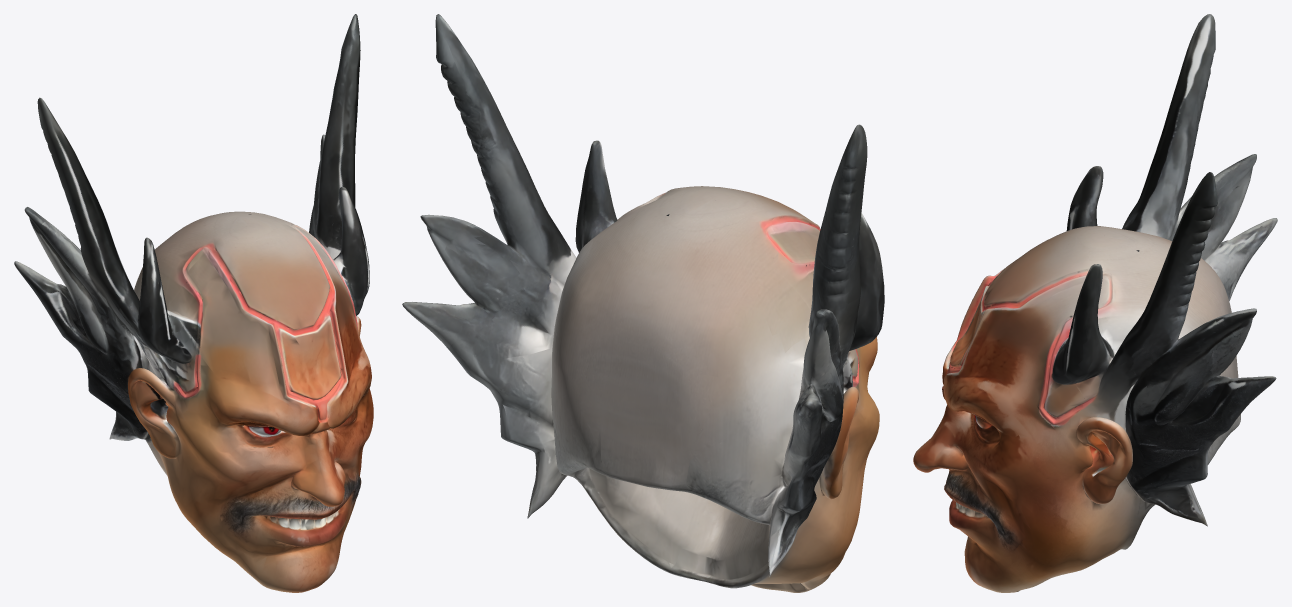
Rendered from jackhachi-head.glb.
3 views of the same model, side by side, from view 1: azimuth 30°, elevation 25°; view 2: azimuth 150°, elevation 25°; view 3: azimuth 270°, elevation 25° (orthographic). The views are drawn at different scales.
Parts seen in each view (by area): view 1: model; view 2: model; view 3: model.
Part boxes in pixels (bbox=[...]): model: bbox=[14, 14, 373, 592]; model: bbox=[402, 14, 884, 592]; model: bbox=[913, 14, 1277, 592].
Bounding box in the file's own units: 1.37 × 1.89 × 1.27.
1 material, 1 textured.
